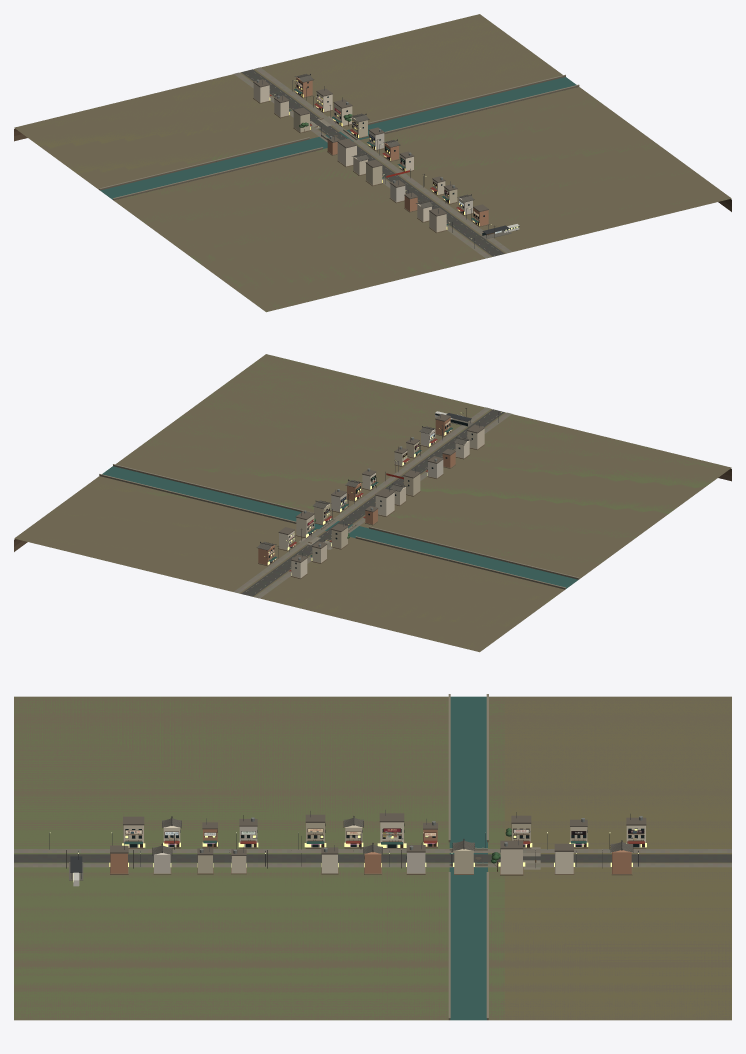
The model's file is town2.glb.
3 renders of one model, top to bottom at view 1: azimuth 30°, elevation 25°; view 2: azimuth 150°, elevation 25°; view 3: azimuth 270°, elevation 25°, orthographic. The views are drawn at different scales.
Parts seen in each view (by area): view 1: Town2_Matte, Town2_TownMatte, Town2_TownStone, Water_Canal, Town2_TownConcrete; view 2: Town2_Matte, Town2_TownMatte, Town2_TownStone, Water_Canal, Town2_TownConcrete; view 3: Town2_TownMatte, Town2_Matte, Water_Canal, Town2_TownStone, Town2_TownConcrete, Town2_TownMetal, Town2_TownWood, Town2_TownWarm, Town2_TownGlass, Town2_TownSigns.
Part boxes in pixels (x1=…): Town2_Matte: x1=14, y1=14, x2=731, y2=312; Town2_TownMatte: x1=25, y1=15, x2=730, y2=311; Town2_TownStone: x1=99, y1=67, x2=579, y2=258; Water_Canal: x1=100, y1=77, x2=576, y2=199; Town2_TownConcrete: x1=253, y1=79, x2=519, y2=233; Town2_Matte: x1=14, y1=354, x2=731, y2=652; Town2_TownMatte: x1=18, y1=355, x2=721, y2=651; Town2_TownStone: x1=99, y1=407, x2=579, y2=598; Water_Canal: x1=102, y1=466, x2=578, y2=588; Town2_TownConcrete: x1=269, y1=411, x2=484, y2=569; Town2_TownMatte: x1=14, y1=696, x2=731, y2=1020; Town2_Matte: x1=14, y1=696, x2=731, y2=1020; Water_Canal: x1=449, y1=696, x2=487, y2=1020; Town2_TownStone: x1=14, y1=694, x2=731, y2=1020; Town2_TownConcrete: x1=73, y1=813, x2=646, y2=886; Town2_TownMetal: x1=49, y1=810, x2=643, y2=878; Town2_TownWood: x1=66, y1=828, x2=644, y2=868; Town2_TownWarm: x1=50, y1=829, x2=646, y2=881; Town2_TownGlass: x1=81, y1=823, x2=644, y2=878; Town2_TownSigns: x1=125, y1=828, x2=643, y2=836.
Bounding box in the file's own units: 320 × 24.95 × 300.
Materials: 11 (1 with a texture image).
